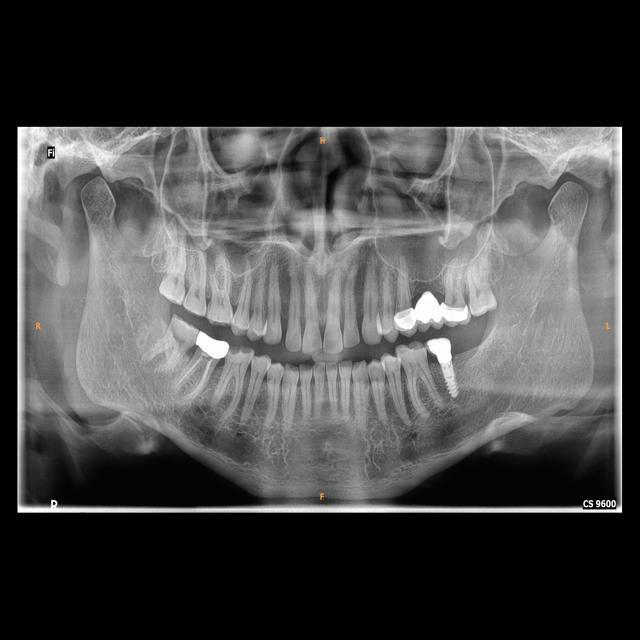dentin-curugu: (227, 345, 254, 361)
implant: (426, 334, 462, 400)
kanal-tedavisi: (178, 352, 213, 397)
kaplama: (193, 329, 230, 362), (440, 298, 470, 324), (396, 309, 416, 334)
kopru: (409, 287, 450, 332)
